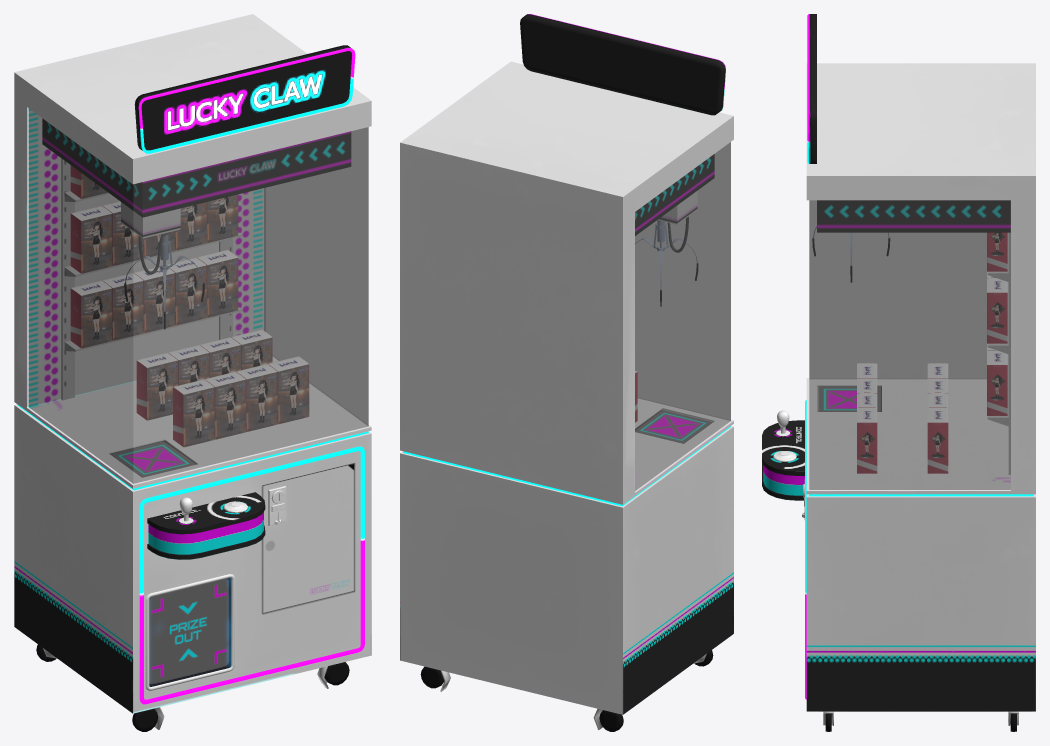
The picture shows the model from 3 angles, left to right: view 1: azimuth 30°, elevation 25°; view 2: azimuth 150°, elevation 25°; view 3: azimuth 270°, elevation 25°; orthographic projection. The views are drawn at different scales.
Parts seen in each view (by area): view 1: claw_machine_01, FigureBox1, FigureBox2; view 2: claw_machine_01; view 3: claw_machine_01, FigureBox2, FigureBox1.
Boxes of the visible parts, x1,y1,x2,y2 form: claw_machine_01: (14, 14, 371, 731); FigureBox1: (70, 165, 238, 348); FigureBox2: (136, 329, 309, 447); claw_machine_01: (400, 14, 733, 731); claw_machine_01: (762, 14, 1035, 731); FigureBox2: (857, 363, 948, 473); FigureBox1: (987, 232, 1007, 415).
Bounding box in the file's own units: 0.8518 × 2.19 × 0.8753.
Materials: 3 (3 with a texture image).
